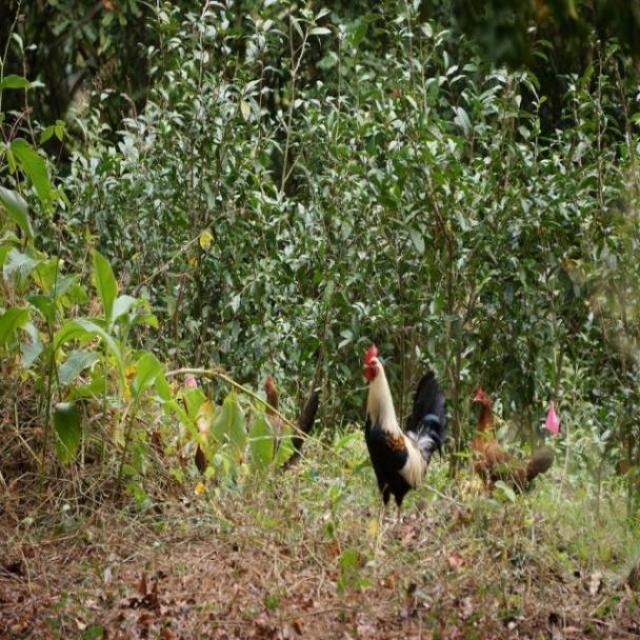Chicken: (363, 343, 453, 512), (468, 379, 561, 536), (259, 355, 330, 485)
